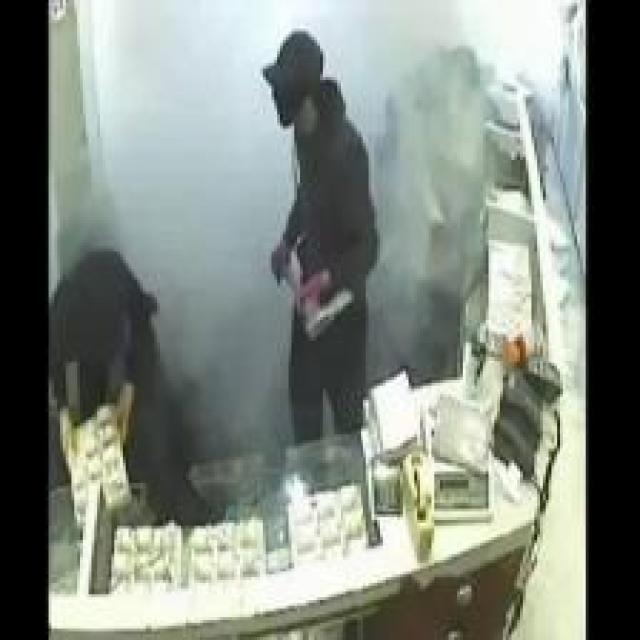fire: (54, 0, 286, 260), (362, 0, 491, 351)
